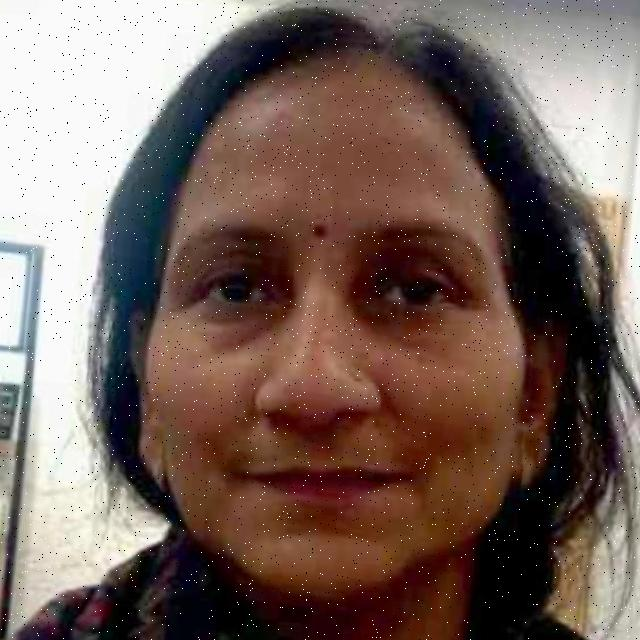puffy_eyes: (175, 295, 278, 347)
